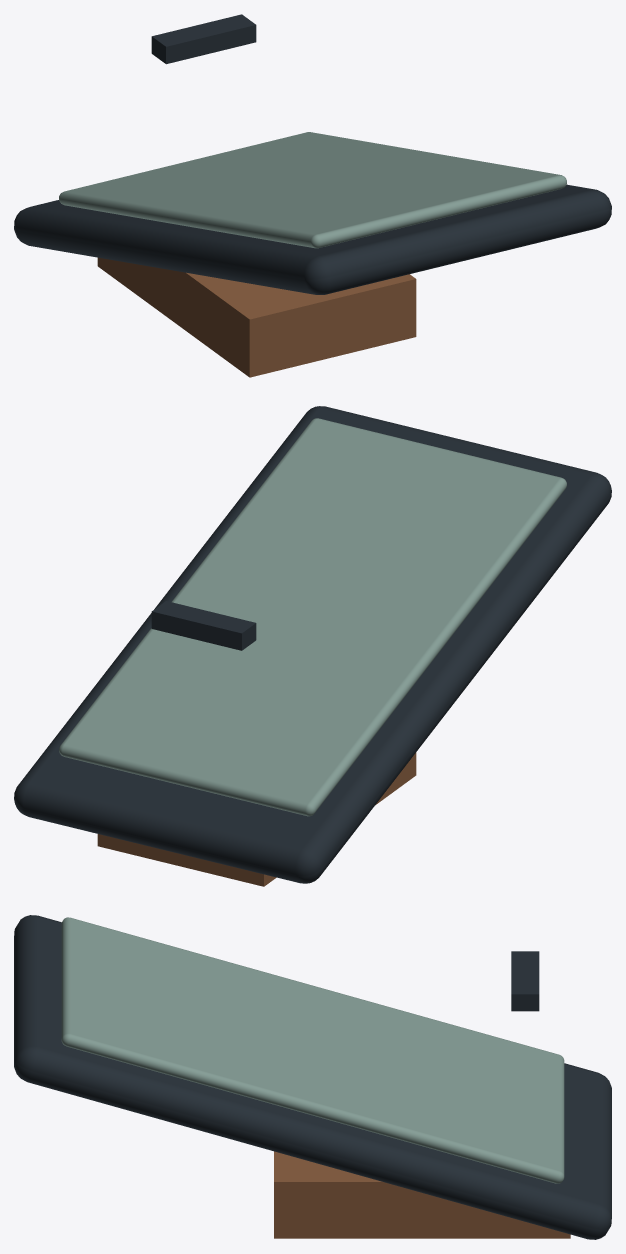
The model's file is phone.glb.
3 renders of one model, top to bottom at view 1: azimuth 30°, elevation 25°; view 2: azimuth 150°, elevation 25°; view 3: azimuth 270°, elevation 25°, orthographic. The views are drawn at different scales.
Size of the model in its own units: 0.22 by 0.16 by 0.3832.
